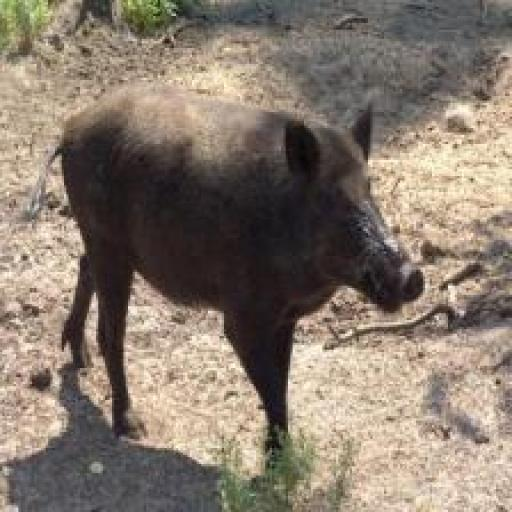Pig: (25, 78, 430, 457)
